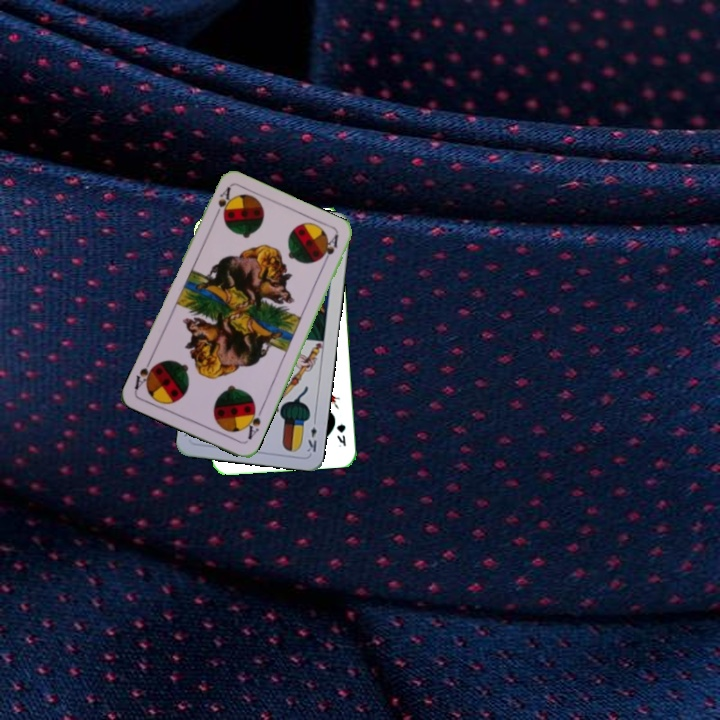EK: (303, 414, 319, 455)
GK: (333, 420, 348, 448)
SA: (241, 402, 265, 442), (210, 183, 234, 222)
